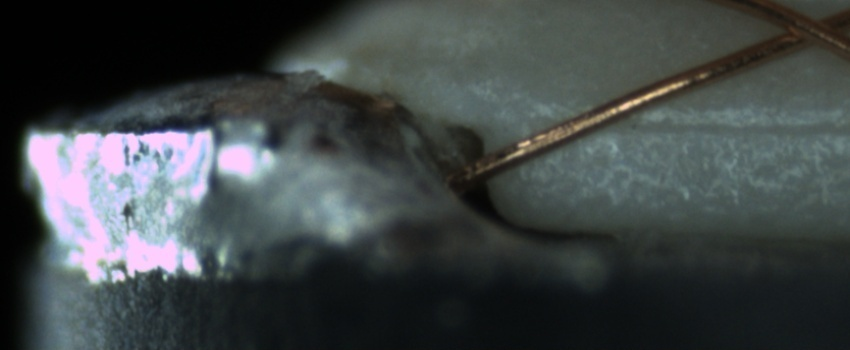CL: (759, 2, 848, 56)
DL: (561, 93, 845, 157)
